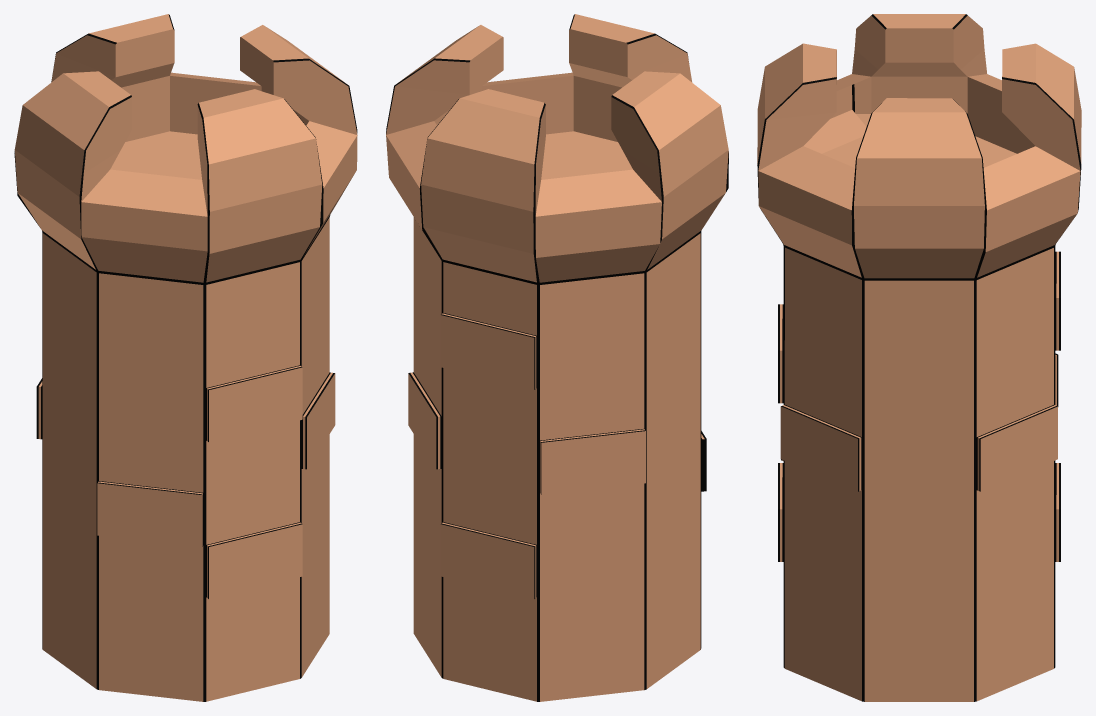
The model's file is CastleTower01.fbx.
3 views of the same model, side by side, from view 1: azimuth 30°, elevation 25°; view 2: azimuth 150°, elevation 25°; view 3: azimuth 270°, elevation 25° (orthographic).
Visible parts, largest first — view 1: Cylinder.009; view 2: Cylinder.009; view 3: Cylinder.009.
Part boxes in pixels (box(x1,y1,x2,y2)): Cylinder.009: box(14, 14, 357, 701); Cylinder.009: box(386, 14, 728, 701); Cylinder.009: box(757, 14, 1081, 701).
Bounding box in the file's own units: 555 × 1098 × 555.
